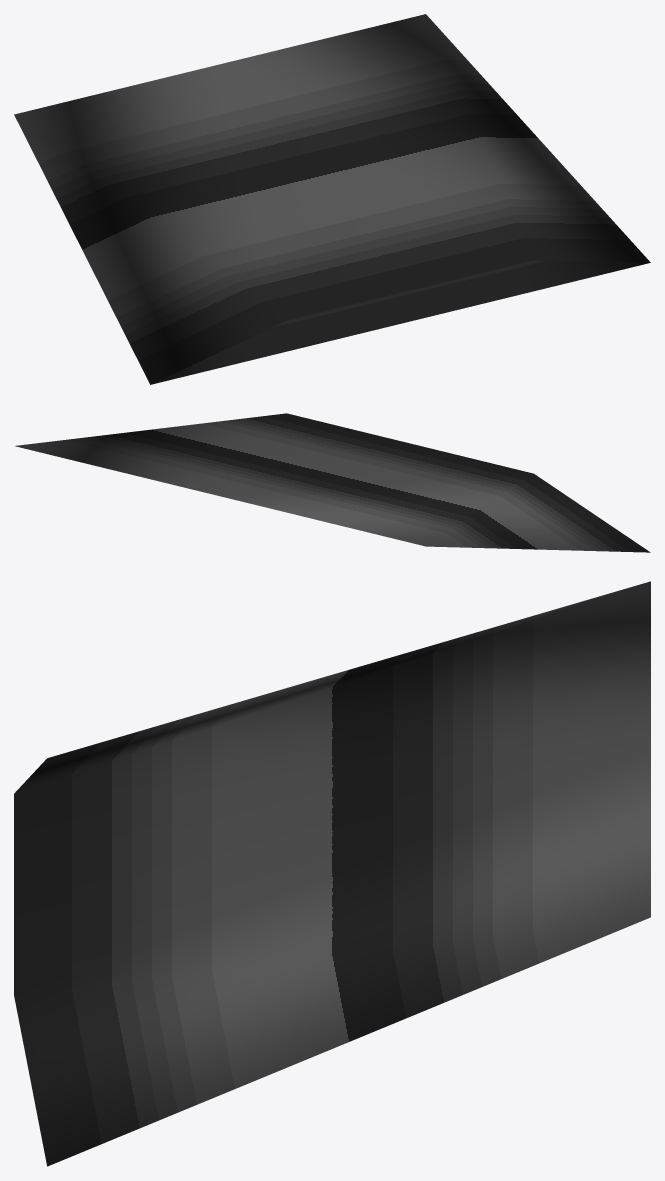
Rendered from 2296skirt00_r.gltf.
3 views of the same model, one above another, from view 1: azimuth 30°, elevation 25°; view 2: azimuth 150°, elevation 25°; view 3: azimuth 270°, elevation 25° (orthographic). The views are drawn at different scales.
Visible parts, largest first — view 1: 2296skirt00_r; view 2: 2296skirt00_r; view 3: 2296skirt00_r.
Part boxes in pixels (left/top/right/bottom): 2296skirt00_r: left=14, top=14, right=650, bottom=384; 2296skirt00_r: left=15, top=413, right=650, bottom=552; 2296skirt00_r: left=14, top=581, right=650, bottom=1166.
Size of the model in its own units: 0.9868 by 0.24 by 0.6504.
Materials: 1 (1 with a texture image).
